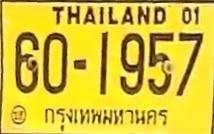0: (42, 32, 67, 94)
1: (100, 31, 108, 94)
5: (148, 32, 174, 95)
6: (15, 31, 39, 93)
7: (176, 31, 203, 96)
9: (119, 32, 144, 94)
BKK: (39, 103, 170, 131)
